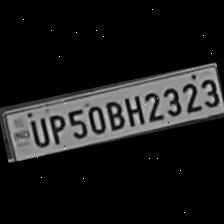0: (82, 101, 108, 136)
2: (139, 88, 164, 123), (176, 78, 200, 114)
3: (158, 83, 182, 118), (196, 74, 220, 109)
5: (63, 106, 88, 140)
B: (101, 96, 126, 132)
H: (119, 92, 144, 128)
P: (44, 109, 68, 145)
U: (25, 114, 50, 148)
